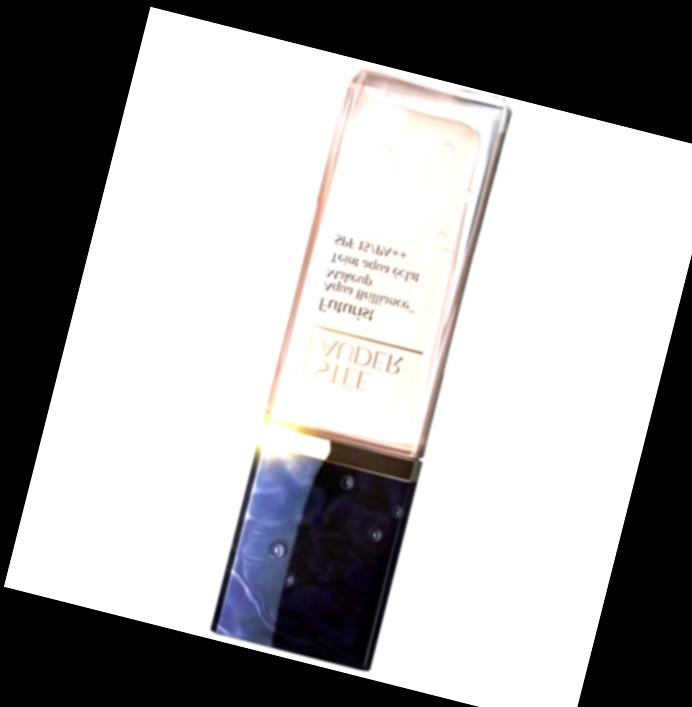cosmetic: (207, 61, 516, 674)
